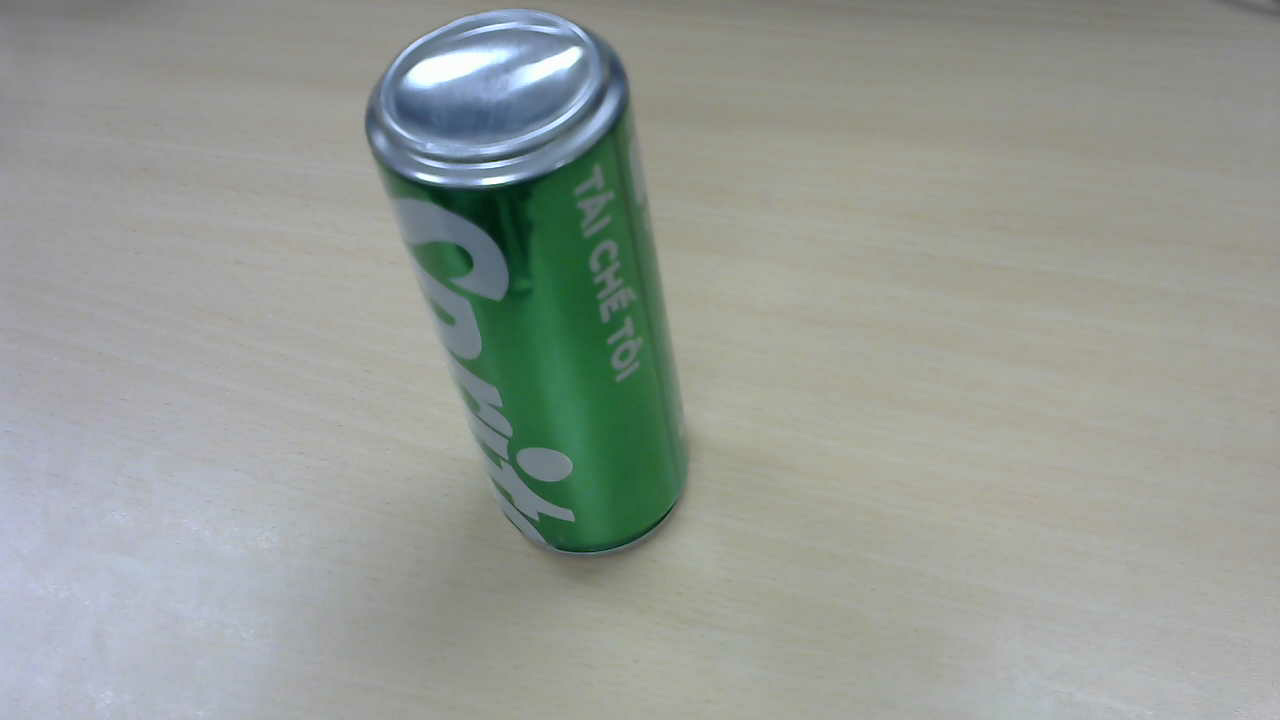Sprite: (360, 16, 707, 547)
